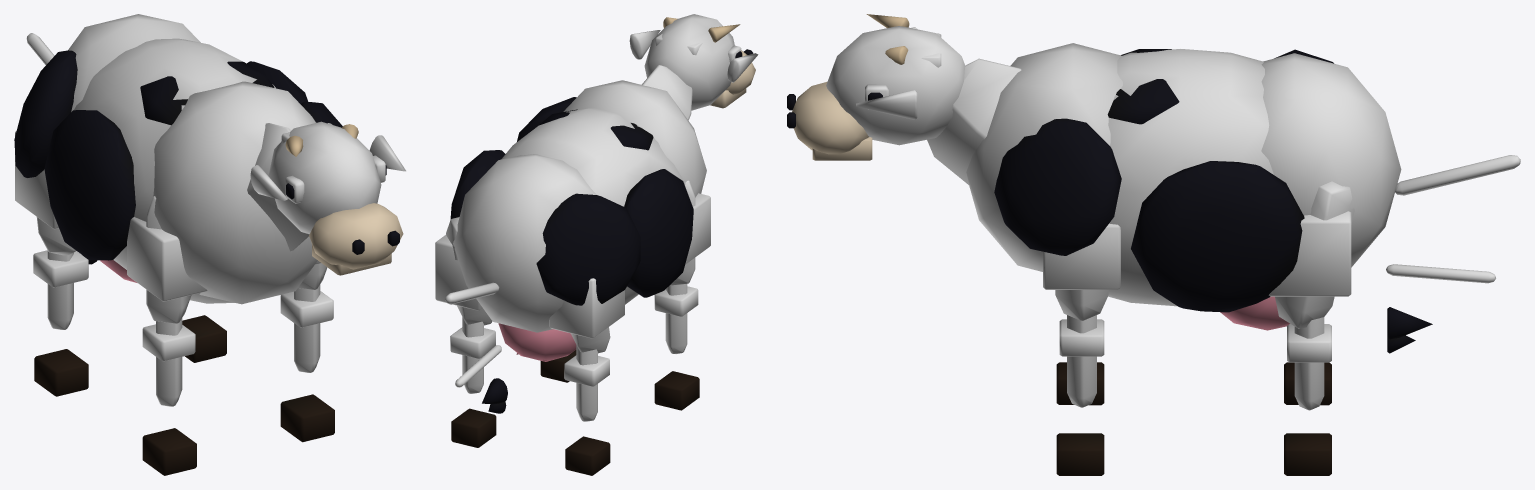
File: holstein_cow.glb
3 renders of one model, left to right at view 1: azimuth 30°, elevation 25°; view 2: azimuth 150°, elevation 25°; view 3: azimuth 270°, elevation 25°, orthographic. The views are drawn at different scales.
Parts seen in each view (by area): view 1: holstein_cow; view 2: holstein_cow; view 3: holstein_cow.
Boxes of the visible parts, x1,y1,x2,y2 form: holstein_cow: [14, 14, 405, 475]; holstein_cow: [435, 14, 758, 475]; holstein_cow: [787, 14, 1520, 475].
Bounding box in the file's own units: 0.9907 × 1.49 × 2.45.
